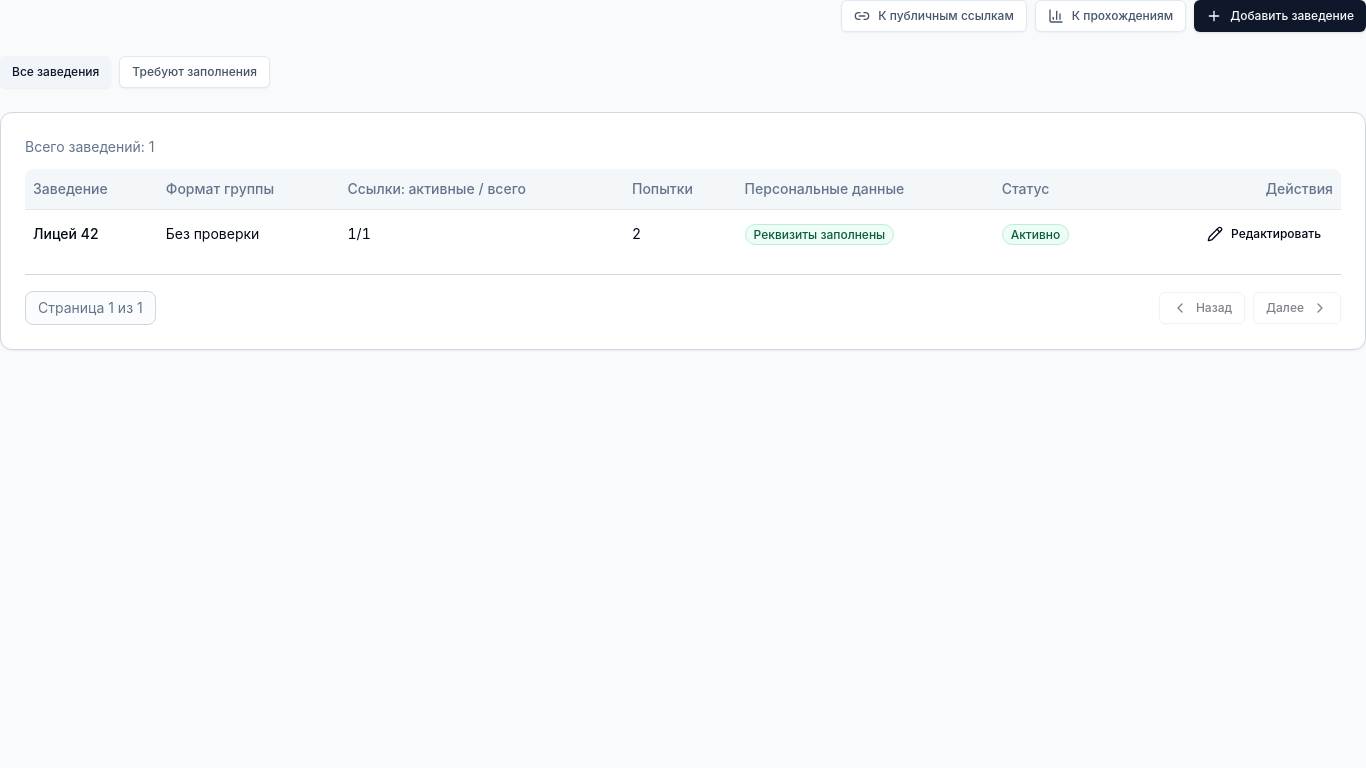
Test case: AdminEducationOrganizationsWorkspace › creates an organization, refetches page one and closes the editor
The image size is (1366, 768).
Click the button "Добавить заведение". click: click(1280, 16)
box: 1194,0 -> 1365,32
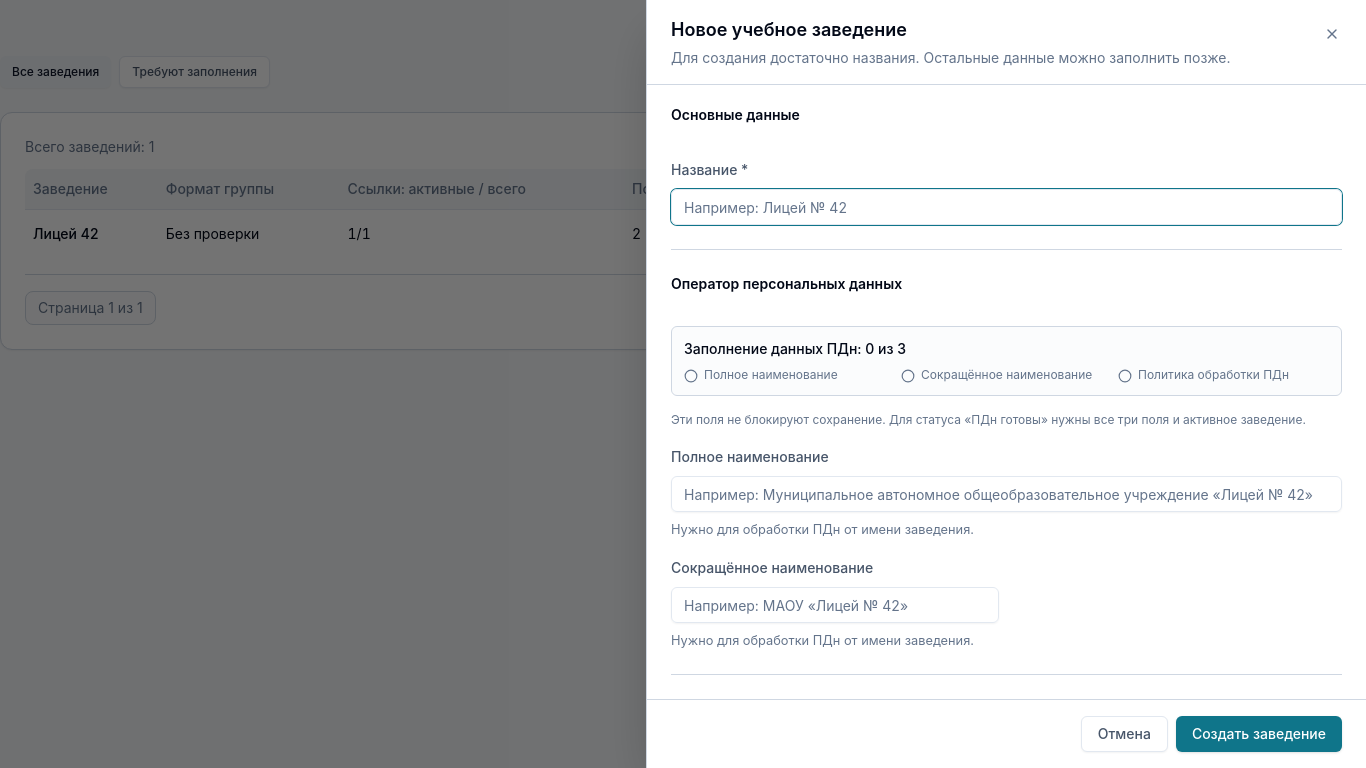
Type "Гимназия 7" into the field labelled "Название *". click: (1006, 207)
box: 671,189 -> 1342,225
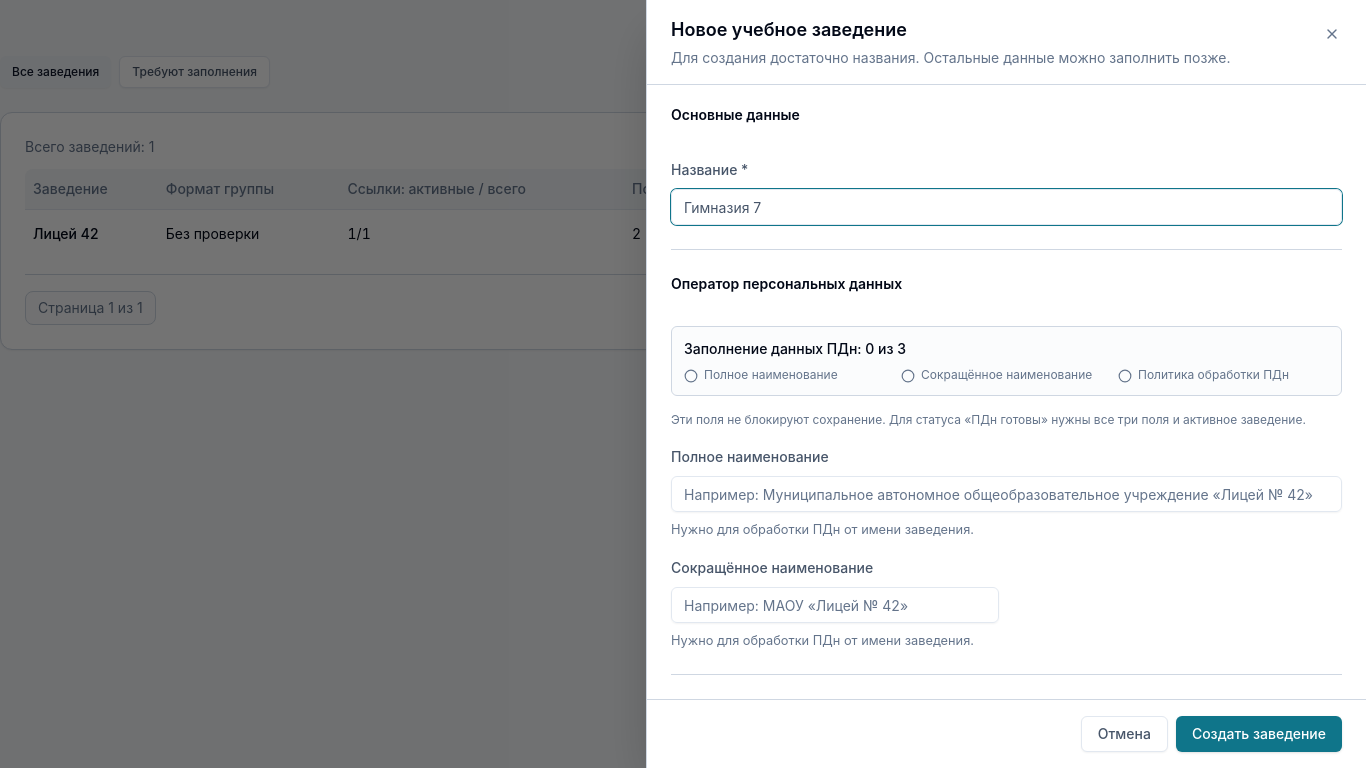
Click the button "Создать заведение". click: click(1259, 734)
box: 1176,716 -> 1342,752
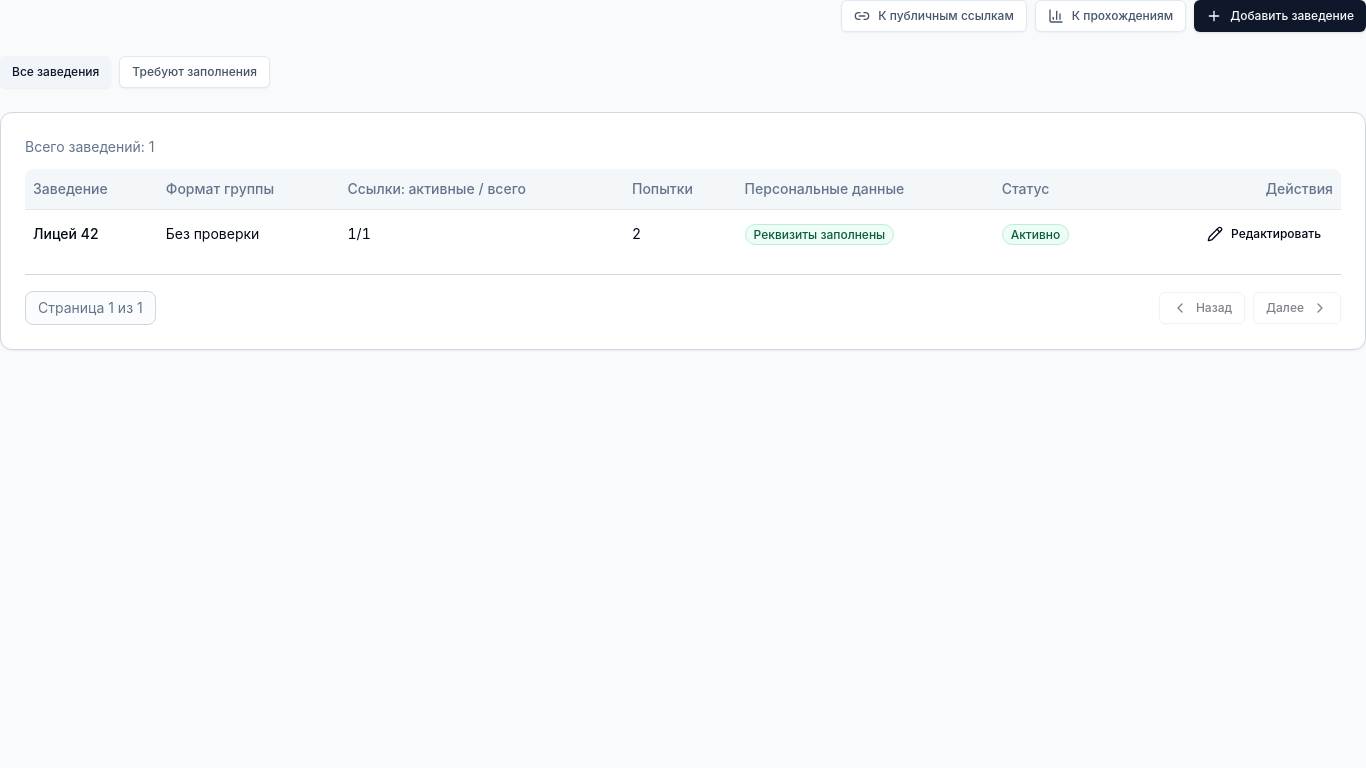
Now the label labelled "Название *" is gone
